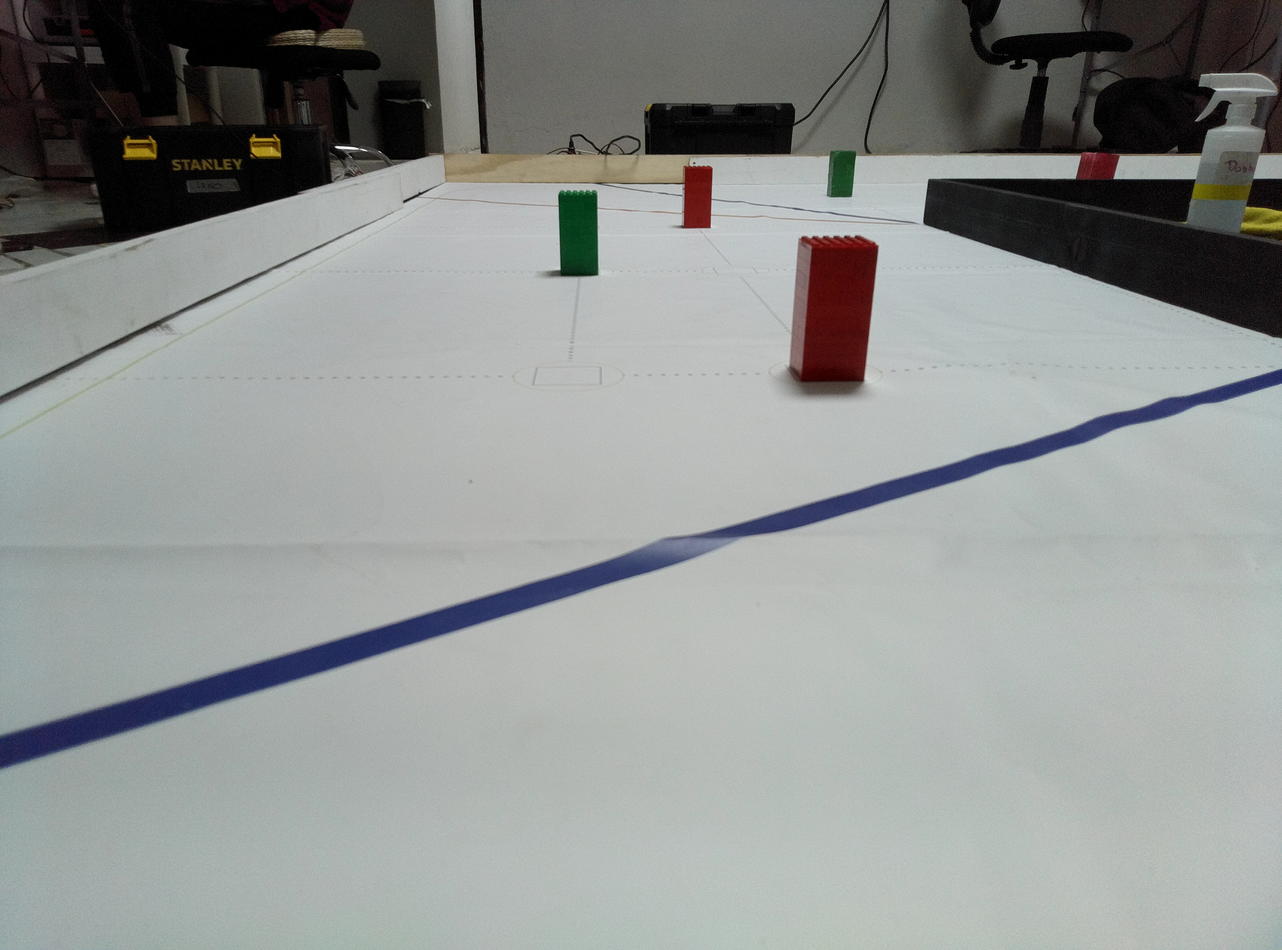greenbox: (557, 190, 600, 277), (826, 149, 857, 198)
redbox: (788, 234, 882, 384), (680, 165, 714, 230), (1075, 152, 1121, 181)
